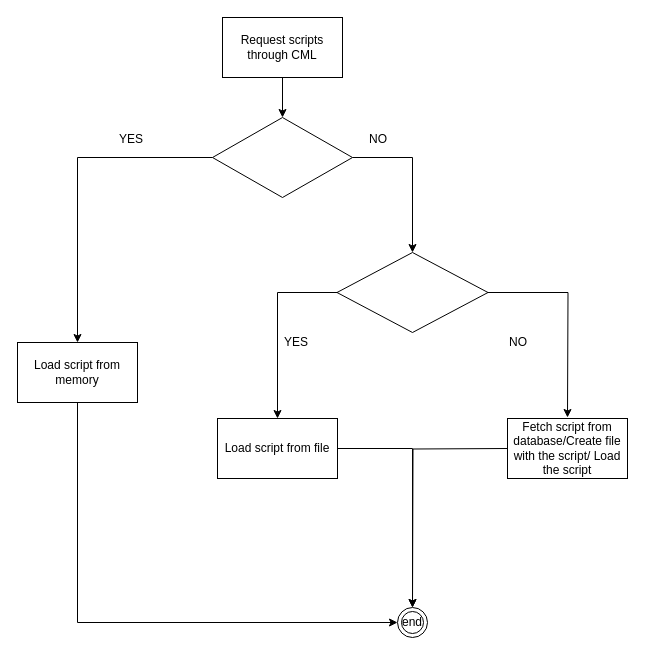
Some shapes in this 645 by 655 pixel diagram are drawn without their labels. Each missing label, with the centre of its shape:
"IS HOT SCRIPT?" belongs at (x=282, y=157).
"IS SCRIPT IN LOCAL FILE SYSTEM?" belongs at (x=412, y=292).
